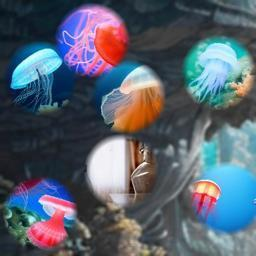not an animal: (119, 141, 158, 201)
